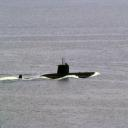submarine: (20, 62, 98, 79)
